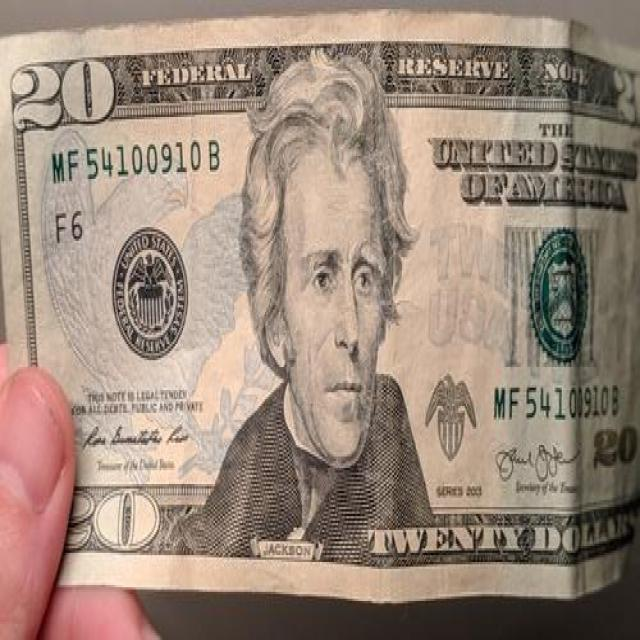20-Front: (0, 14, 640, 598)
